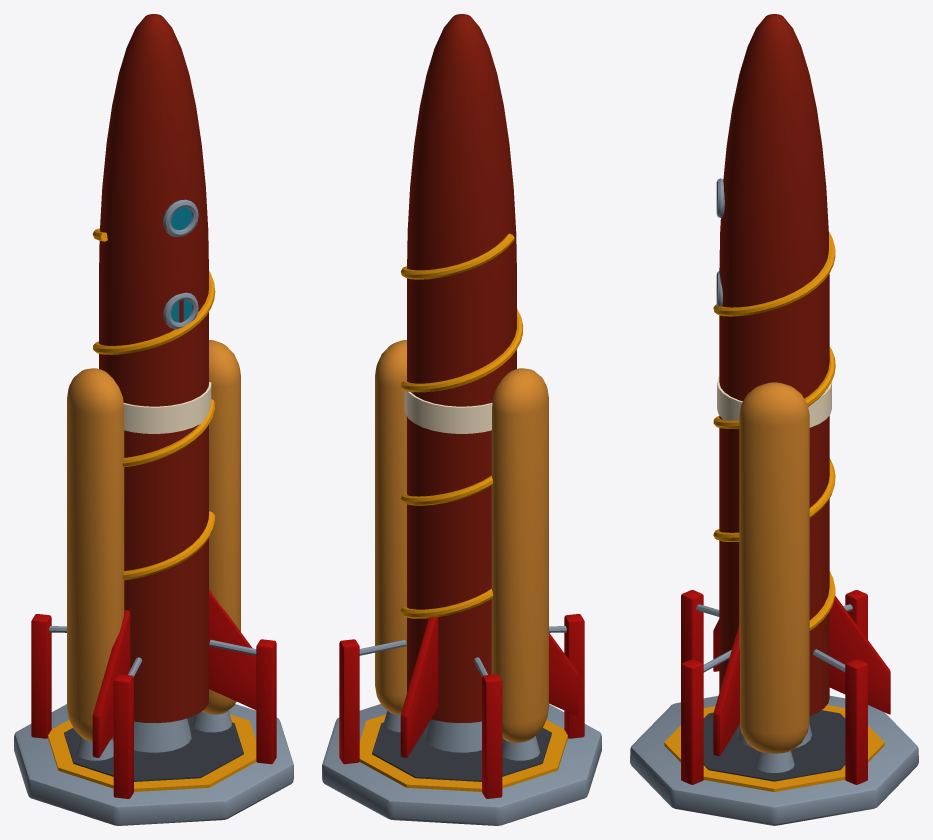
File: HotDogRocket.fbx
3 renders of one model, left to right at view 1: azimuth 30°, elevation 25°; view 2: azimuth 150°, elevation 25°; view 3: azimuth 270°, elevation 25°, orthographic.
Visible parts, largest first — view 1: HotDogRocket; view 2: HotDogRocket; view 3: HotDogRocket.
Part boxes in pixels (x1,y1,x2,y2): HotDogRocket: [14, 14, 293, 825]; HotDogRocket: [322, 14, 601, 825]; HotDogRocket: [630, 14, 918, 825].
Size of the model in its own units: 9.94 by 28.6 by 9.95.
